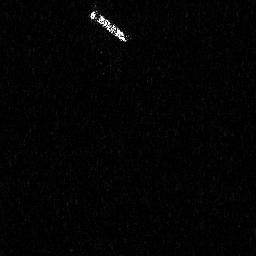ship: (85, 1, 133, 43)
